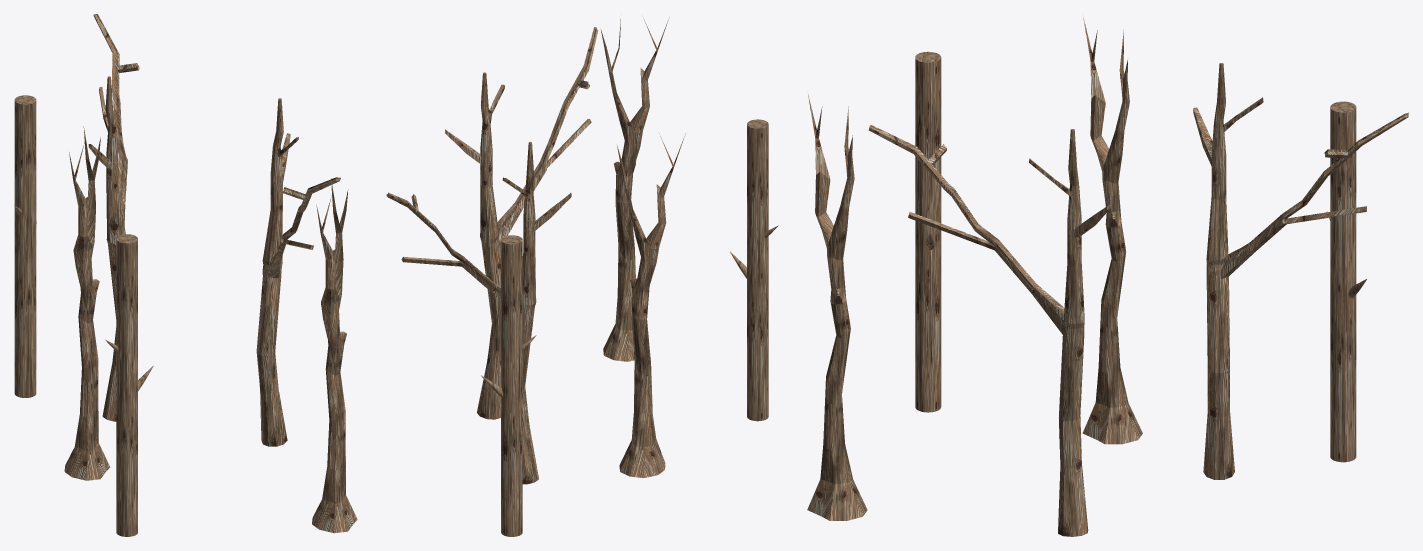
File: tree1.glb
The picture shows the model from 3 angles, left to right: view 1: azimuth 30°, elevation 25°; view 2: azimuth 150°, elevation 25°; view 3: azimuth 270°, elevation 25°; orthographic projection. The views are drawn at different scales.
Visible parts, largest first — view 1: Cylinder.002, Cylinder, Cylinder.007, Cylinder.003, Cylinder.004, Cylinder.001; view 2: Cylinder, Cylinder.002, Cylinder.007, Cylinder.003, Cylinder.004, Cylinder.001; view 3: Cylinder, Cylinder.001, Cylinder.002, Cylinder.007, Cylinder.004, Cylinder.003.
Part boxes in pixels (x1,y1,x2,y2): Cylinder.002: (14,95,36,397); Cylinder: (256,98,340,446); Cylinder.007: (105,234,153,536); Cylinder.003: (64,126,110,480); Cylinder.004: (312,178,357,533); Cylinder.001: (88,14,139,421); Cylinder: (445,27,598,419); Cylinder.002: (481,235,536,536); Cylinder.007: (730,119,778,421); Cylinder.003: (617,133,685,478); Cylinder.004: (601,17,669,361); Cylinder.001: (386,141,571,484); Cylinder: (868,125,1110,536); Cylinder.001: (1193,63,1408,479); Cylinder.002: (1327,101,1366,462); Cylinder.007: (915,51,941,412); Cylinder.004: (807,92,867,520); Cylinder.003: (1082,16,1142,444).
Size of the model in its own units: 10.22 by 12.99 by 17.19.
Materials: 3 (3 with a texture image).
